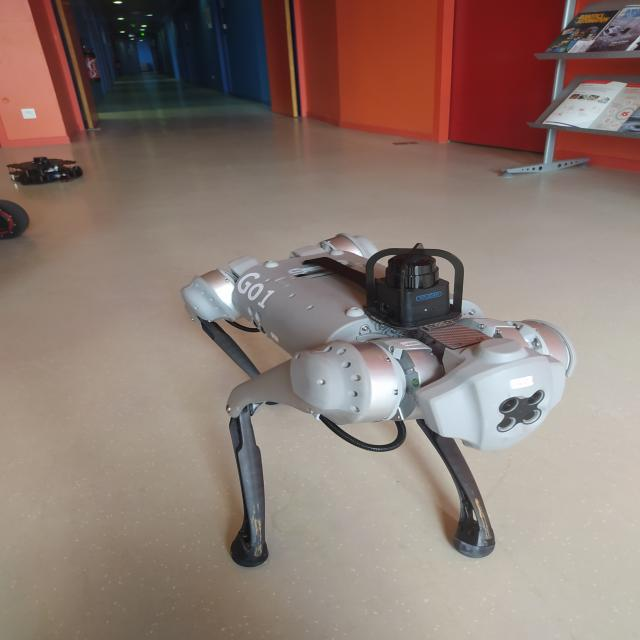unitree-go1-robot: (167, 225, 582, 571)
